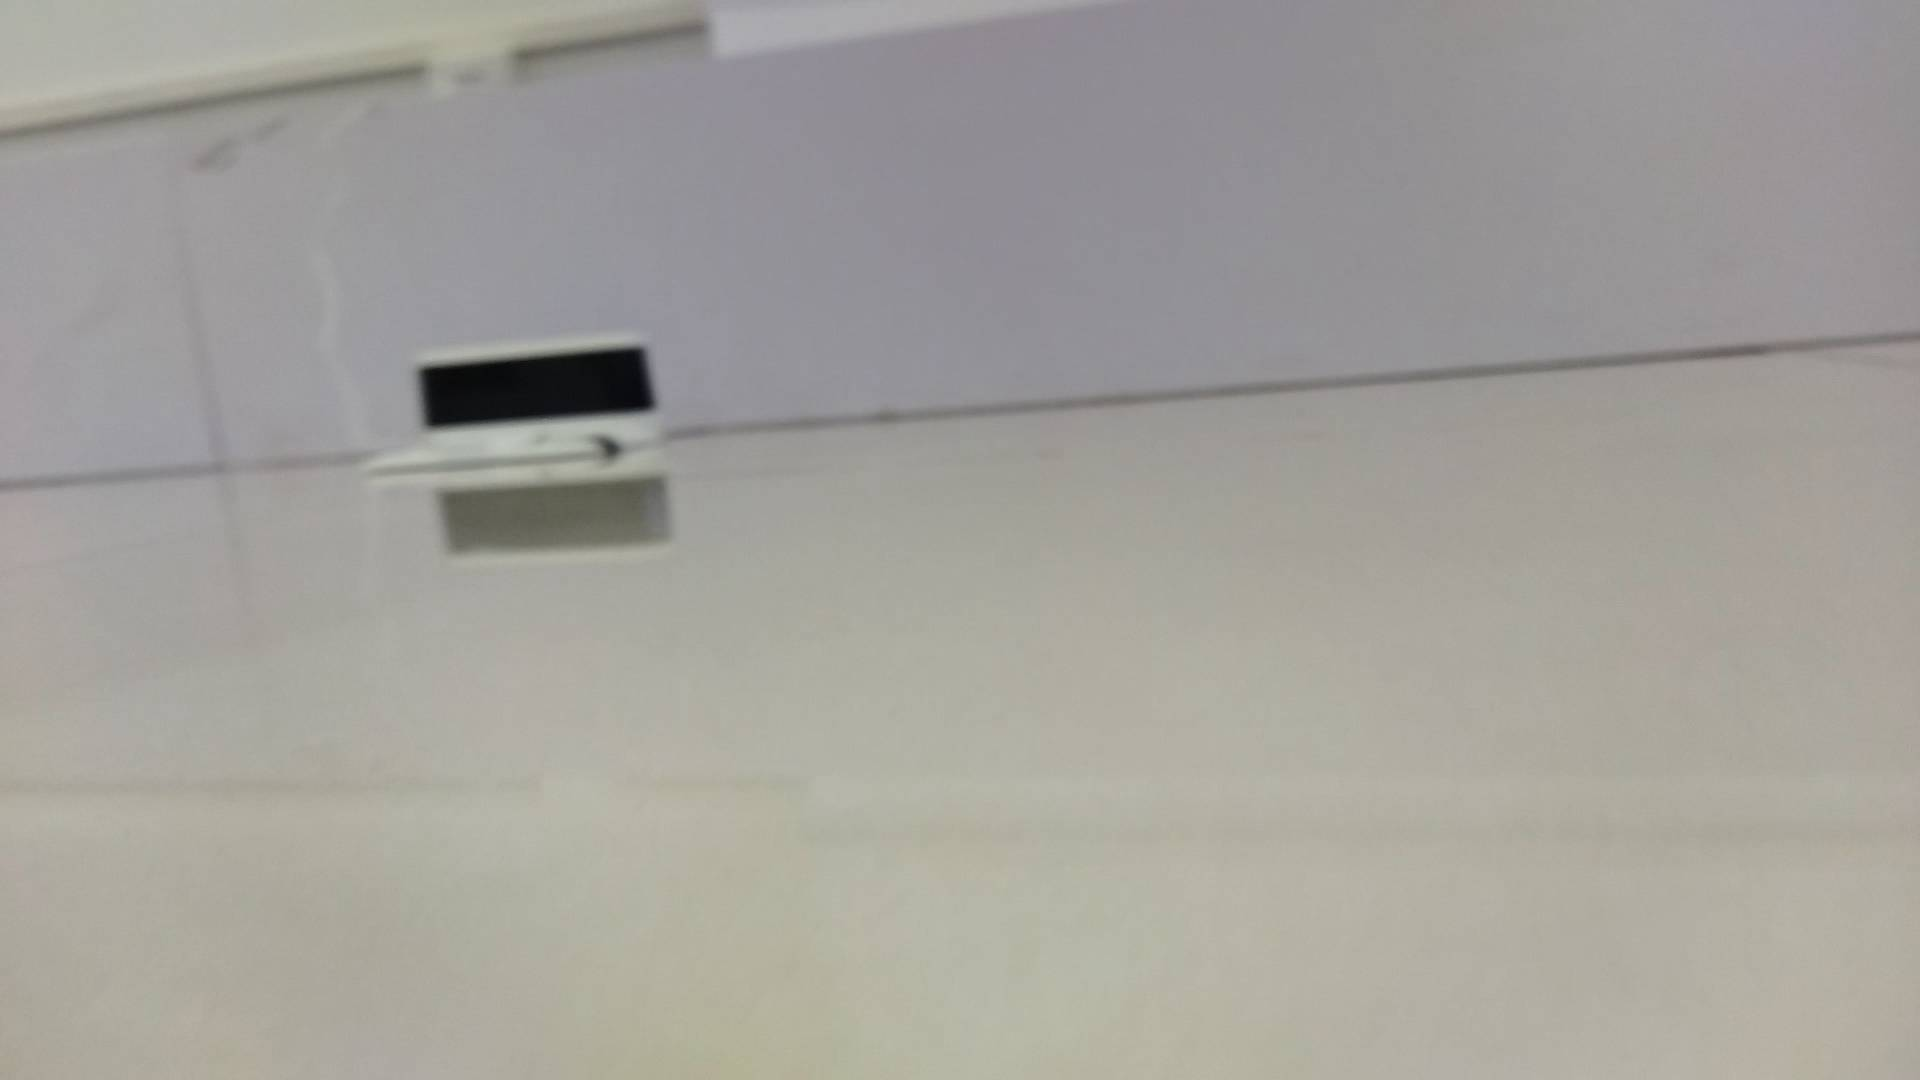recharge seat: (365, 330, 663, 469)
